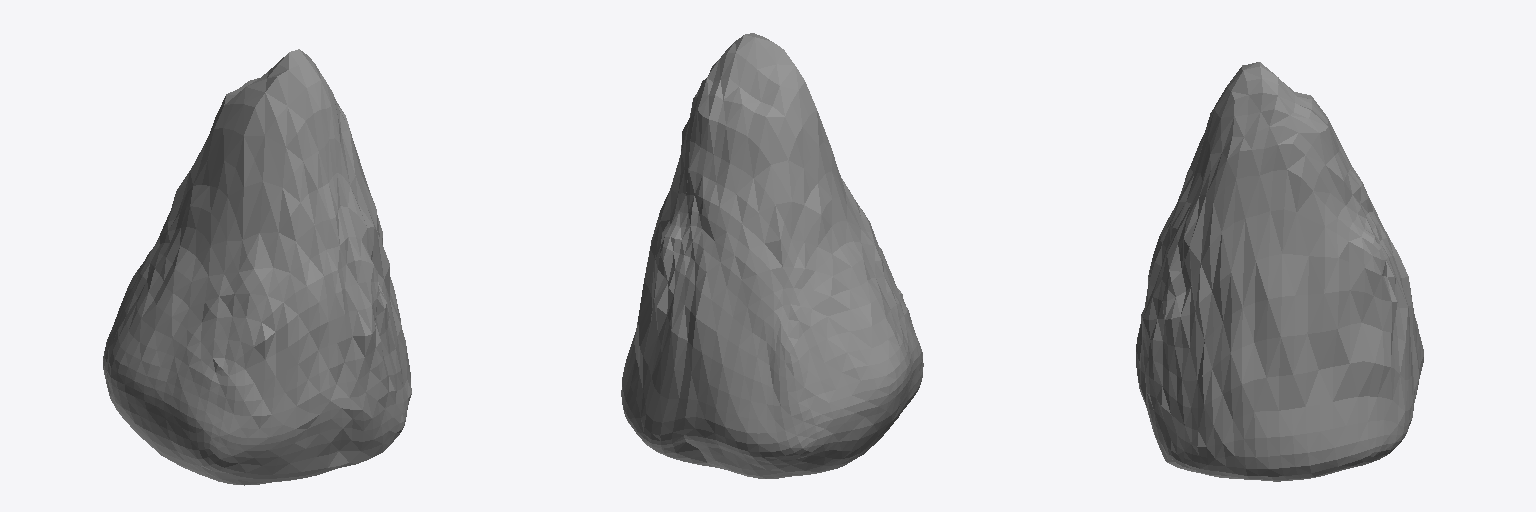
File: rocks_01_model.obj
The picture shows the model from 3 angles: view 1: azimuth 30°, elevation 25°; view 2: azimuth 150°, elevation 25°; view 3: azimuth 270°, elevation 25°; orthographic projection.
Parts seen in each view (by area): view 1: rock_01; view 2: rock_01; view 3: rock_01.
Boxes of the visible parts, <box> form: rock_01: <box>103,49,411,485</box>; rock_01: <box>621,33,923,478</box>; rock_01: <box>1136,62,1423,481</box>.
Bounding box in the file's own units: 13.51 × 19.79 × 12.58.